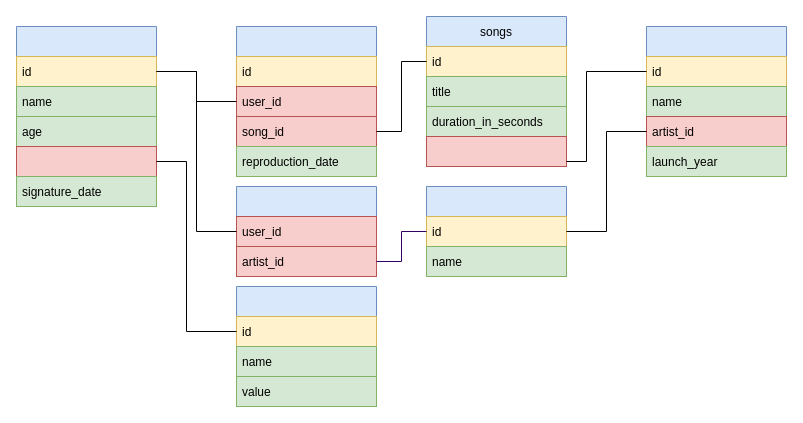
Some shapes in this 803 by 423 pixel diagram are drawn without their labels. Here are the shapes that lost their labels. From the top down, the box of each, then its label:
(16, 26, 156, 206): users
(236, 26, 376, 176): reproductions_history
(646, 26, 786, 176): albums
(16, 146, 156, 176): plan_id
(426, 136, 566, 166): album_id
(236, 186, 376, 276): following
(426, 186, 566, 276): artists
(236, 286, 376, 406): plans
